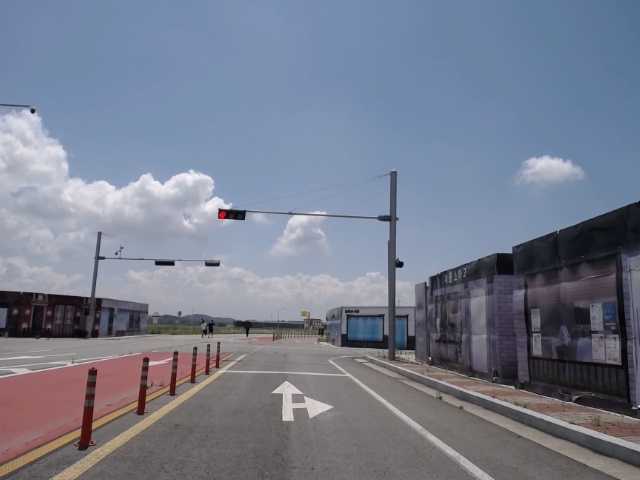red_3: (217, 207, 249, 222)
